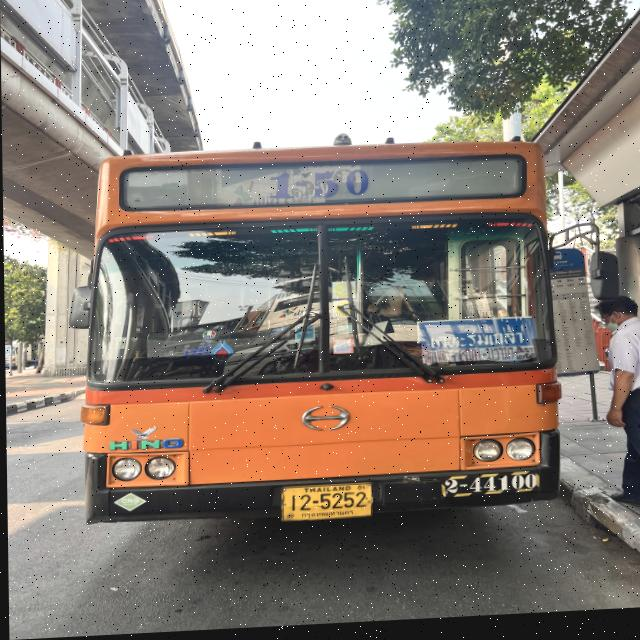BMTA-bus: (78, 147, 561, 528)
Bus Line Number: (257, 163, 378, 208)
Bus Side Number: (438, 477, 540, 504)
Destination Sign: (419, 319, 536, 372)
